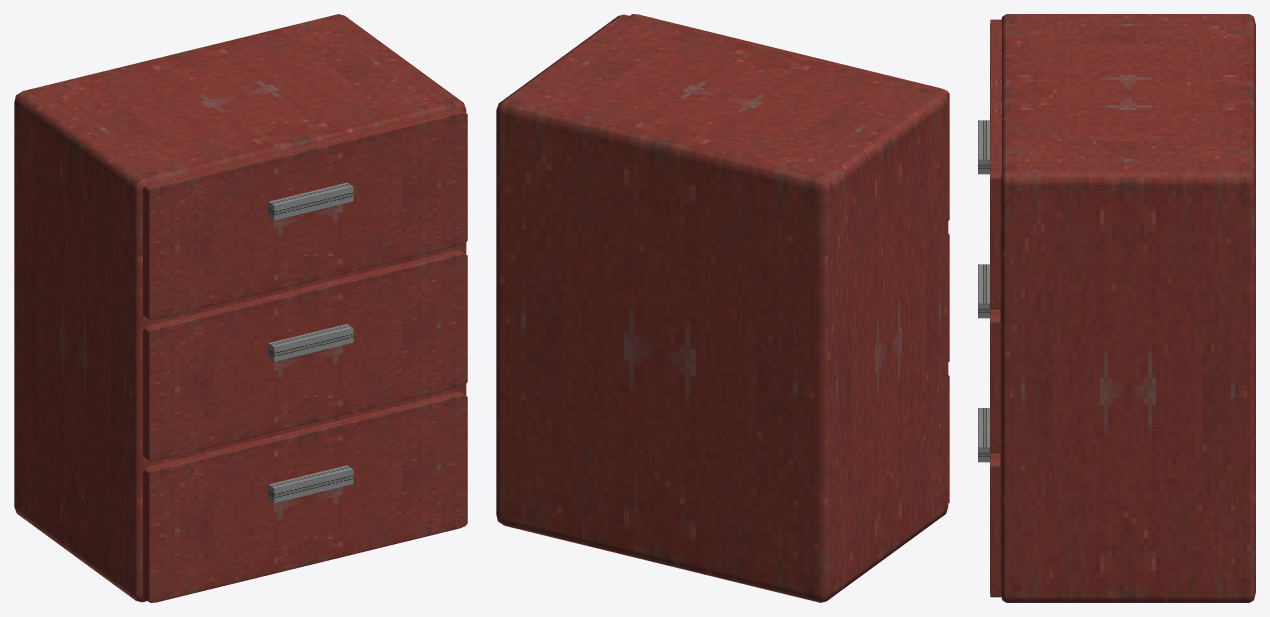
Rendered from toolbox-cart.glb.
3 renders of one model, left to right at view 1: azimuth 30°, elevation 25°; view 2: azimuth 150°, elevation 25°; view 3: azimuth 270°, elevation 25°, orthographic.
Visible parts, largest first — view 1: front (×3), case, pull (×3); view 2: case, front; view 3: case, front (×3), pull (×3).
Boxes of the visible parts, bbox=[...] form: front (×3): bbox=[142, 108, 467, 602]; case: bbox=[14, 14, 466, 602]; pull (×3): bbox=[268, 182, 353, 503]; case: bbox=[496, 14, 948, 602]; front: bbox=[630, 14, 949, 220]; case: bbox=[1000, 14, 1255, 602]; front (×3): bbox=[990, 19, 1001, 597]; pull (×3): bbox=[978, 120, 989, 462].
Bounding box in the file's own units: 0.69 × 0.84 × 0.49.
2 materials, 2 textured.
